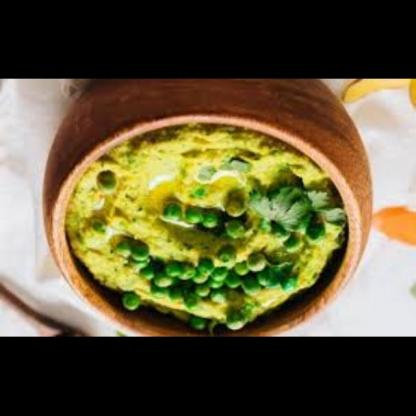peas: (147, 244, 291, 304), (155, 201, 230, 229), (280, 223, 329, 260), (107, 239, 158, 269), (216, 213, 256, 250), (218, 194, 262, 226), (219, 306, 256, 334), (91, 172, 125, 200), (273, 218, 299, 246), (93, 215, 114, 241), (189, 316, 213, 334), (114, 303, 139, 316)
